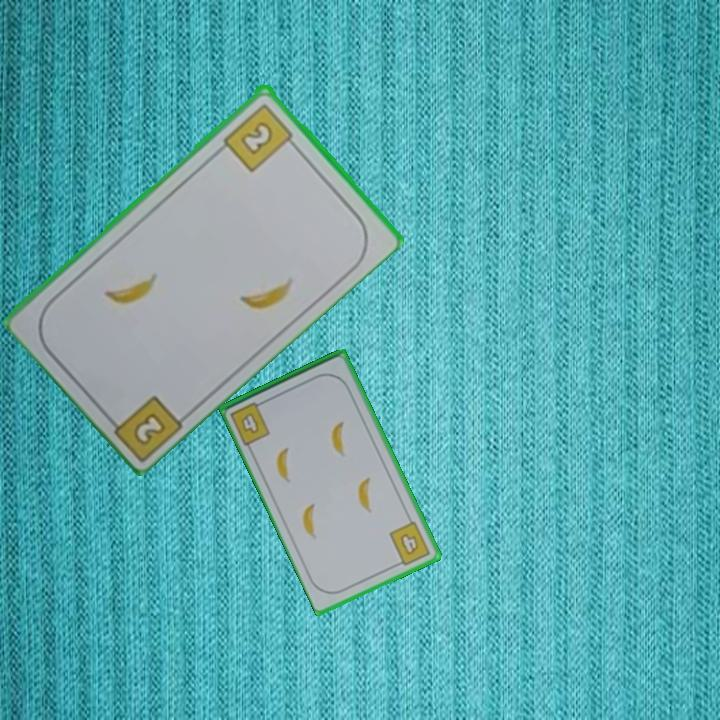2b: (219, 99, 300, 174), (129, 408, 169, 448)
4b: (386, 518, 433, 569), (227, 397, 273, 448)
